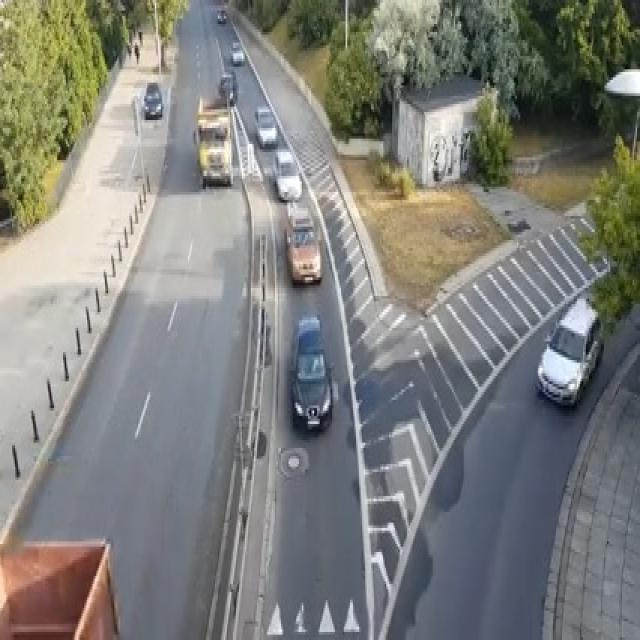car: (535, 293, 604, 408), (288, 315, 332, 432), (286, 206, 322, 286), (272, 149, 302, 200), (254, 104, 278, 147), (142, 80, 164, 117), (218, 69, 237, 104), (230, 40, 245, 64), (216, 8, 227, 21)
truck: (192, 93, 233, 187)
